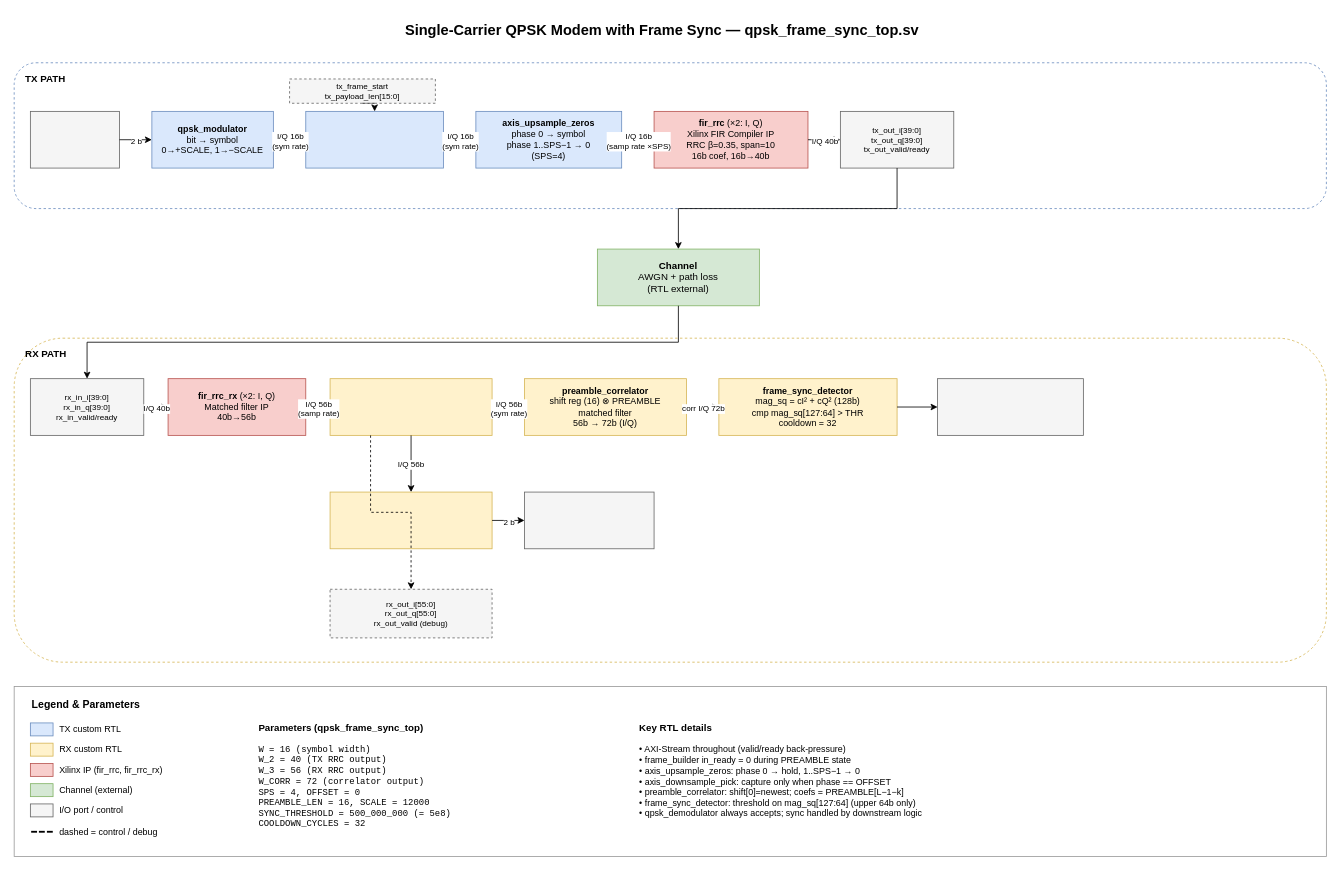
Image size: 1341x871. Some labels were removed from this diagram. Here are the shapes that lost their labels. From the top down, the box of each, then its label:
(30, 111, 119, 168): tx_bits [1:0] tx_bits_valid tx_bits_ready
(305, 111, 443, 168): frame_builder FSM: IDLE→PREAMBLE(16) →PAYLOAD(payload_len)
(329, 378, 492, 435): axis_downsample_pick phase == OFFSET (=0) capture (SPS=4)
(937, 378, 1083, 435): rx_sync_found (pulse) rx_sync_index[31:0] rx_sync_mag[63:0]
(329, 491, 492, 549): qpsk_demodulator hard decision (sign bit) I<0→1, Q<0→1
(524, 491, 654, 549): rx_bits[1:0] rx_bits_valid/ready
